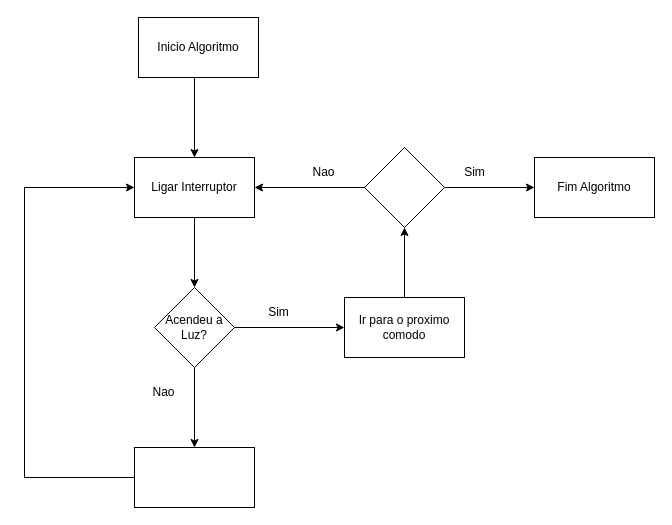
Some shapes in this 672 by 525 pixel diagram are drawn without their labels. The shapes that lost their labels are listed below. From the top down, each one's centre as x and y in pixels, then its label:
At pixel 404 187: "Ultimo comodo?".
At pixel 194 477: "Trocar a Lampada".
